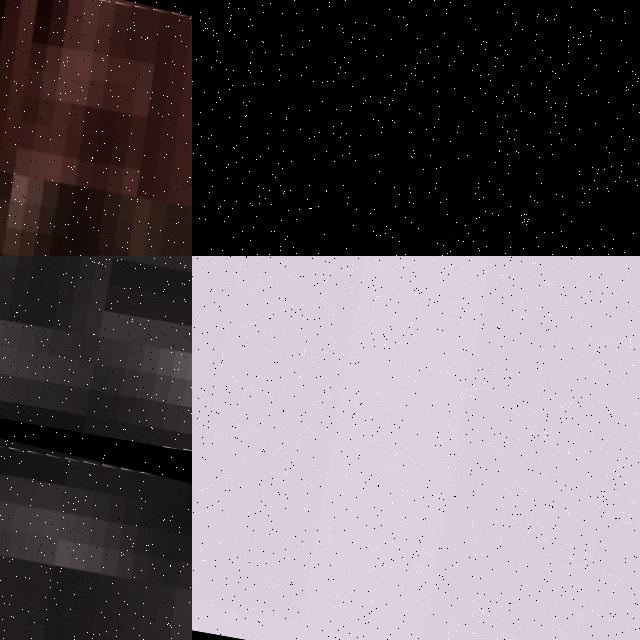drone: (192, 0, 640, 256), (0, 362, 192, 640), (0, 0, 192, 256)
